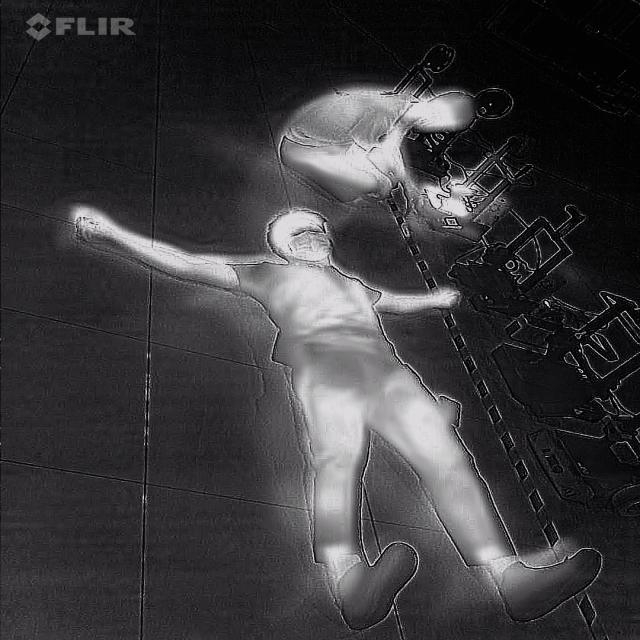Victim: (70, 198, 606, 629), (268, 62, 481, 224)
